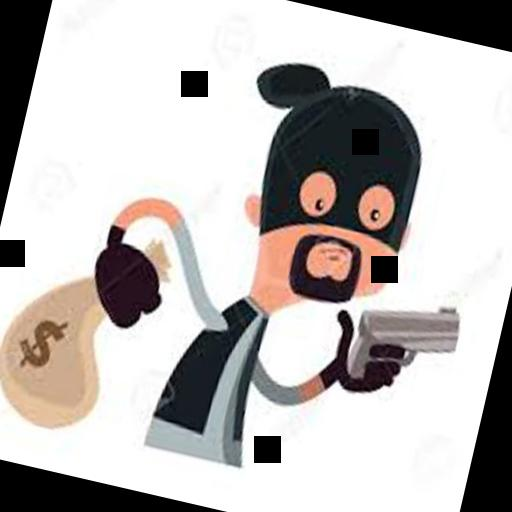Handgun: (340, 282, 466, 403)
